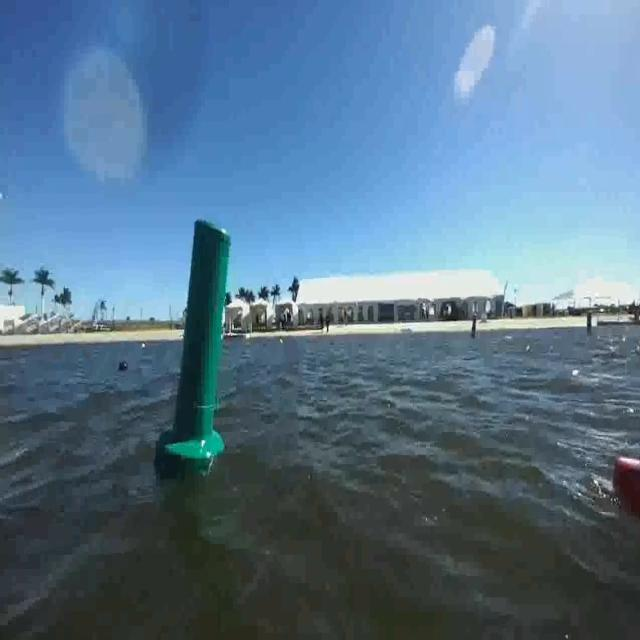green-column-buoy: (164, 216, 235, 471)
